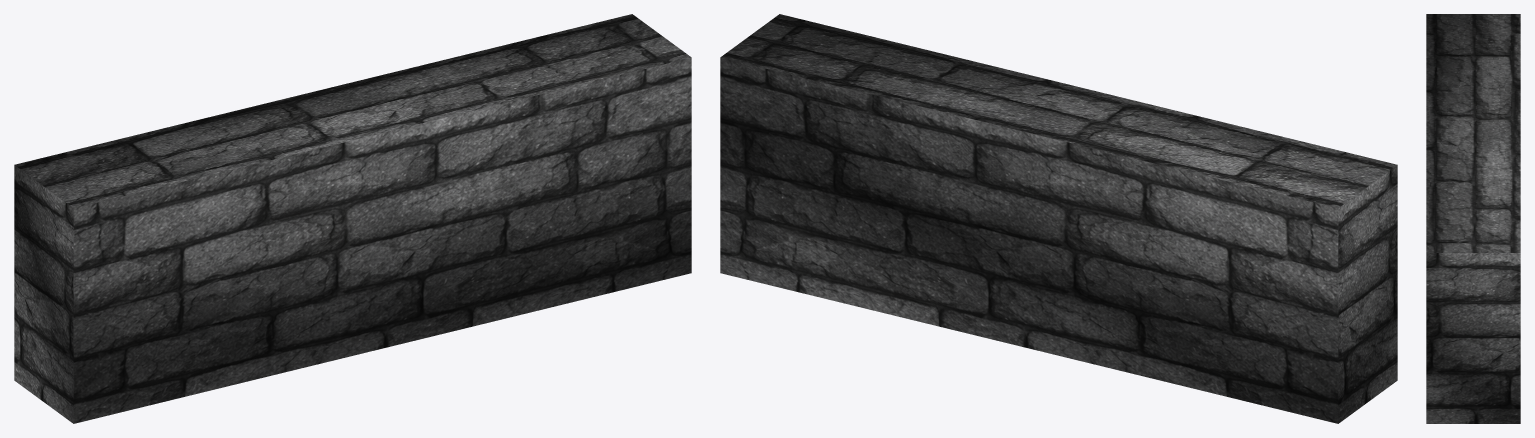
Rendered from stone halfwall.glb.
3 views of the same model, side by side, from view 1: azimuth 30°, elevation 25°; view 2: azimuth 150°, elevation 25°; view 3: azimuth 270°, elevation 25° (orthographic). The views are drawn at different scales.
Parts seen in each view (by area): view 1: 3' Tall Wall; view 2: 3' Tall Wall; view 3: 3' Tall Wall.
Part boxes in pixels (box(x1,y1,x2,y2)): 3' Tall Wall: box(14, 14, 691, 423); 3' Tall Wall: box(720, 14, 1397, 423); 3' Tall Wall: box(1426, 14, 1520, 423).
Bounding box in the file's own units: 2.74 × 0.9144 × 0.4572.
1 material, 1 textured.
